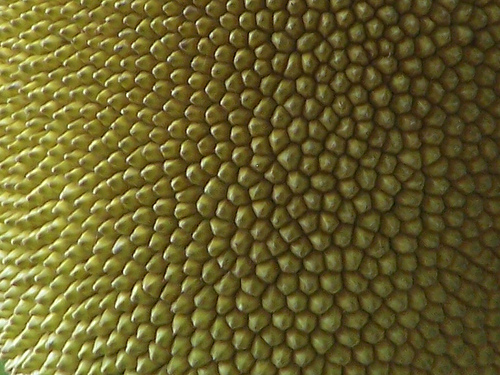jackfruit: (2, 0, 499, 374)
